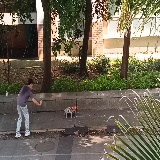fire: (71, 105, 78, 110)
